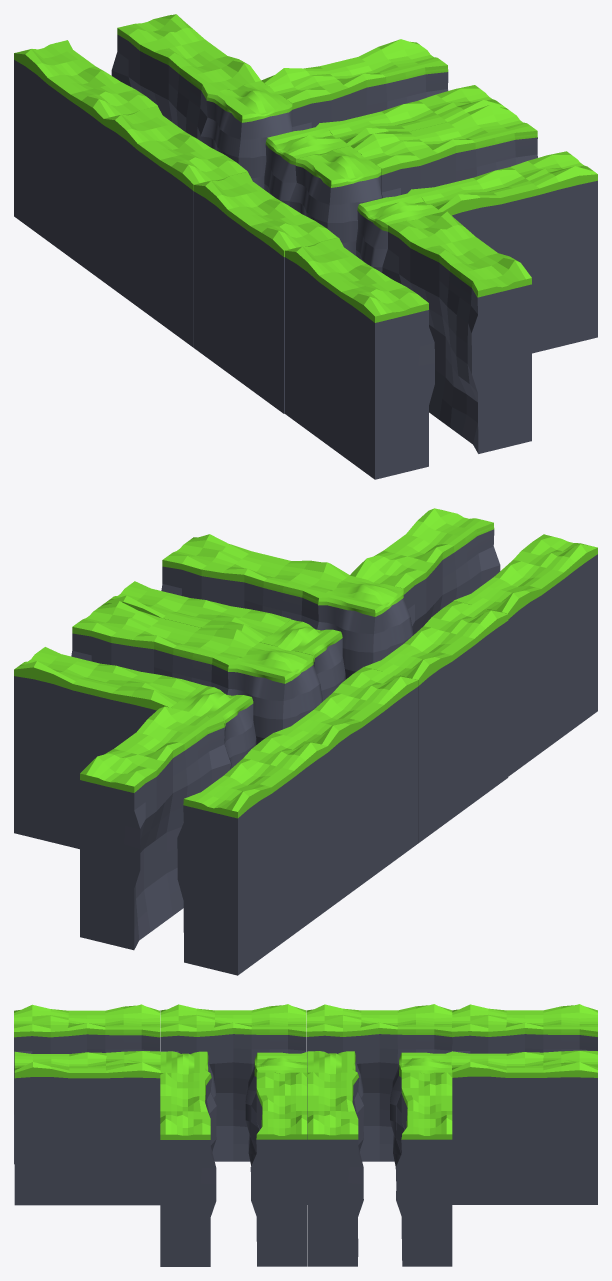
The model's file is BlockSet8.dae.
The picture shows the model from 3 angles, top to bottom: view 1: azimuth 30°, elevation 25°; view 2: azimuth 150°, elevation 25°; view 3: azimuth 270°, elevation 25°; orthographic projection. The views are drawn at different scales.
Parts seen in each view (by area): view 1: BlockSet8Fin; view 2: BlockSet8Fin; view 3: BlockSet8Fin.
Part boxes in pixels (x1,y1,x2,y2): BlockSet8Fin: (14,14,597,479); BlockSet8Fin: (14,508,597,975); BlockSet8Fin: (14,1004,597,1266).
Bounding box in the file's own units: 313 × 166 × 622.
